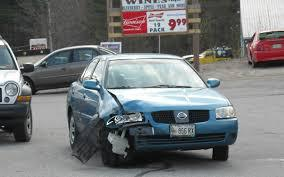Headlight-Damage: (102, 107, 145, 131)
doorouter-dent: (111, 87, 210, 107)
